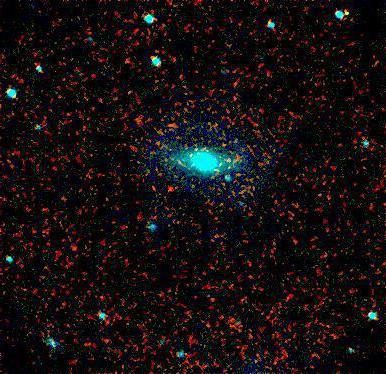star: (174, 141, 204, 171)
